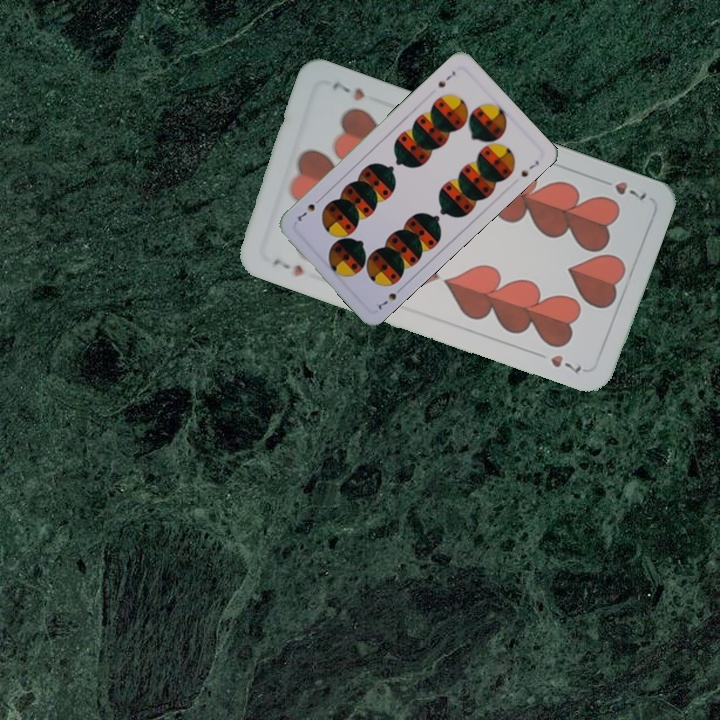H7: (594, 174, 650, 203), (269, 253, 307, 279)
S7: (374, 282, 406, 312), (434, 67, 458, 90)
